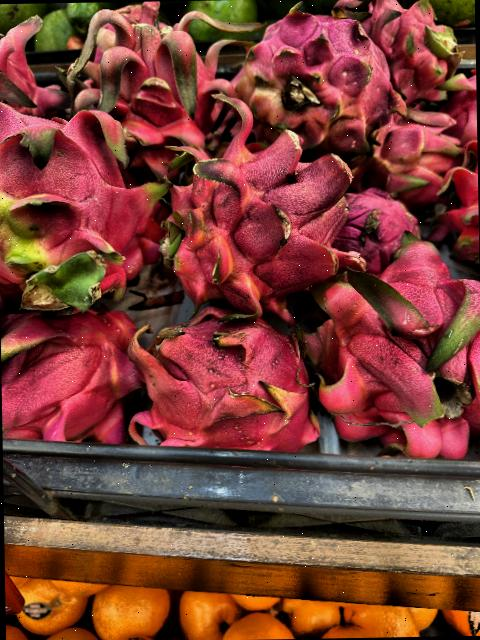buah-naga-belum-matang: (0, 94, 163, 307), (227, 9, 400, 162), (380, 105, 462, 205)
buah-naga-matang: (166, 85, 370, 314), (313, 260, 480, 467), (128, 300, 330, 468), (64, 0, 256, 156), (0, 302, 142, 462), (333, 0, 466, 109)
